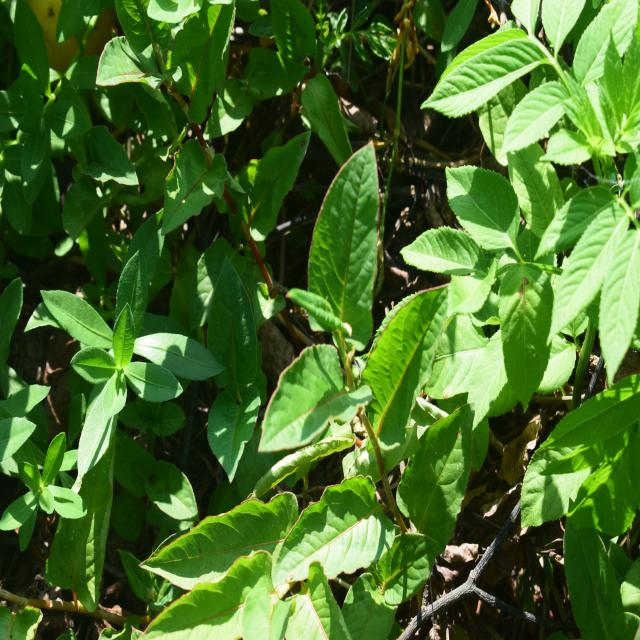Chinese_knotweed: (282, 163, 478, 551)
